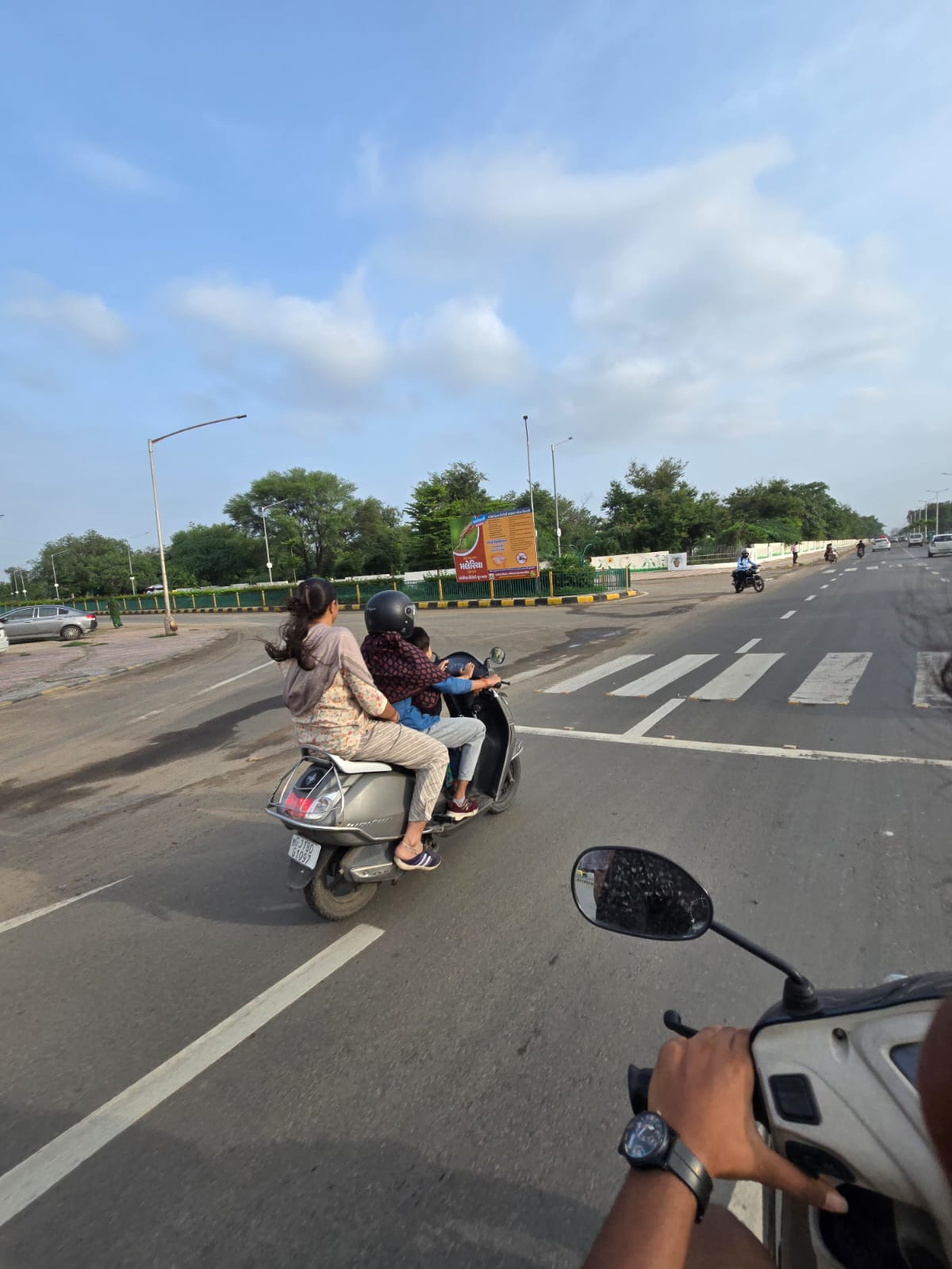BikeWithRider: (257, 573, 530, 926), (728, 547, 765, 592), (822, 541, 840, 563), (855, 538, 866, 559)
Helmet: (360, 589, 419, 646), (741, 549, 751, 558)
NoHelmet: (295, 577, 339, 624)
